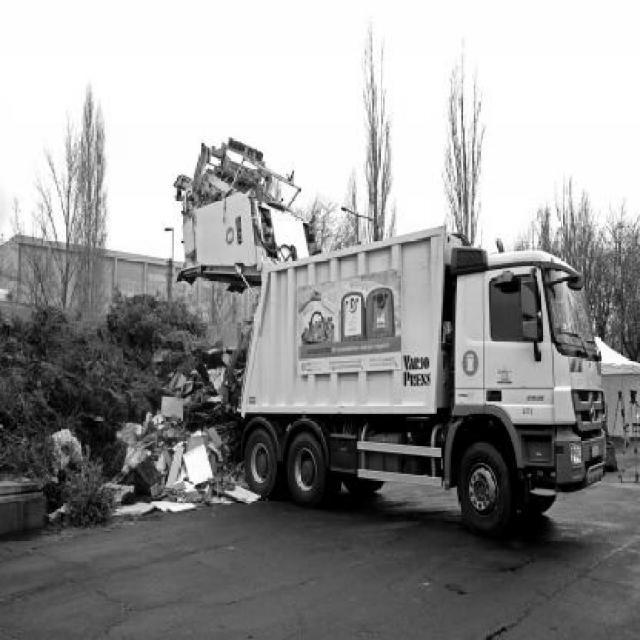Garbage Truck: (238, 229, 616, 539)
